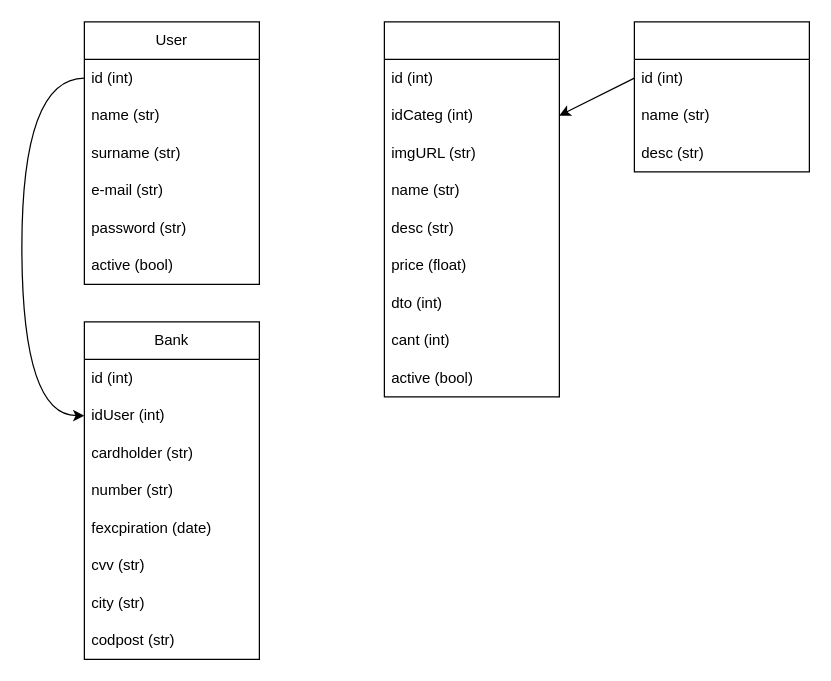
The diagram is 831 pixels wide and 681 high, and some of its shapes have lost their labels. Each missing label, with the box of its shape:
Categoria: (633, 21, 809, 172)
Producte: (383, 21, 559, 397)
